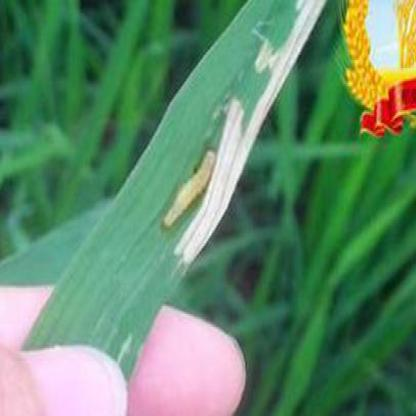leaf-folder: (162, 132, 226, 228)
